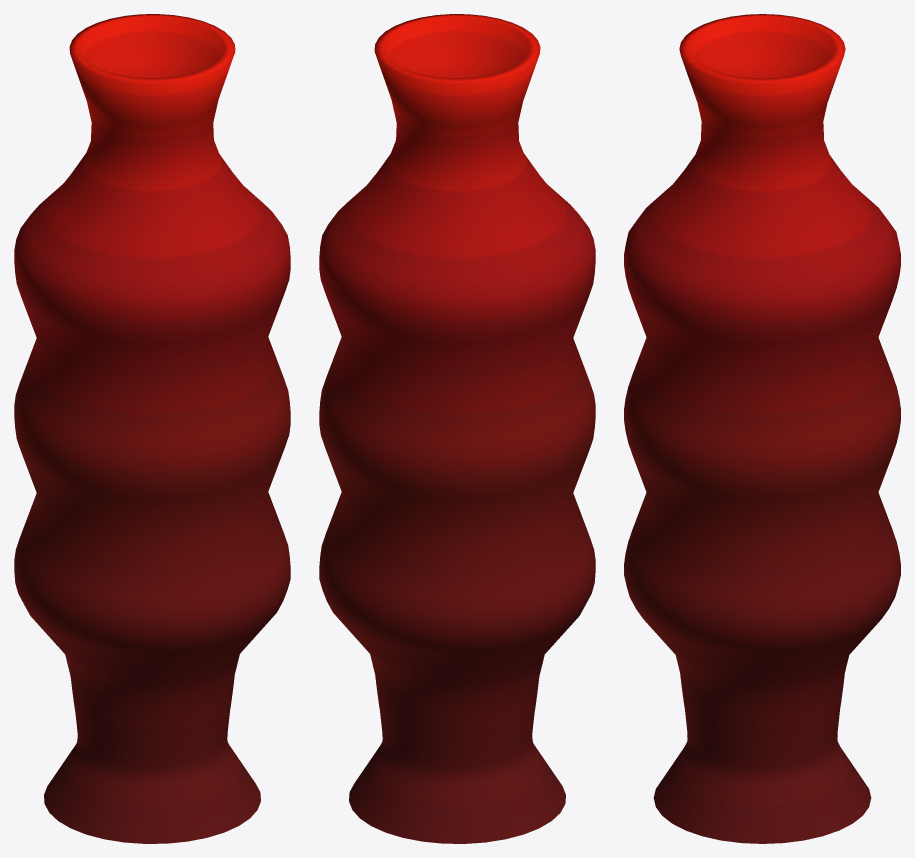
File: vase1.fbx
The picture shows the model from 3 angles, left to right: view 1: azimuth 30°, elevation 25°; view 2: azimuth 150°, elevation 25°; view 3: azimuth 270°, elevation 25°; orthographic projection.
Visible parts, largest first — view 1: vase1; view 2: vase1; view 3: vase1.
Boxes of the visible parts, left/top/right/bottom form: vase1: left=14, top=14, right=290, bottom=843; vase1: left=319, top=14, right=595, bottom=843; vase1: left=624, top=14, right=900, bottom=843.
Bounding box in the file's own units: 12.88 × 38.49 × 12.88.
